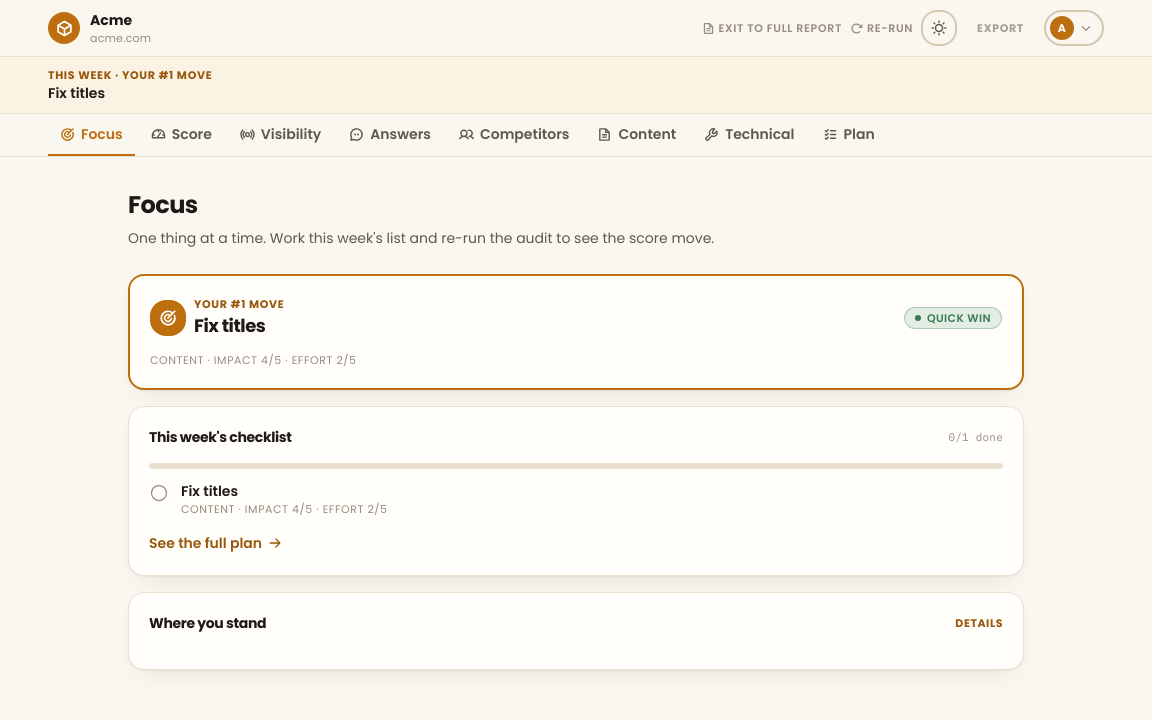
Test: GeoDashboard account menu › preserves the Admin Dashboard option for an admin on the dashboard header menu
Click the button named "Account menu" at (1074, 28), box [1044,10,1104,46]
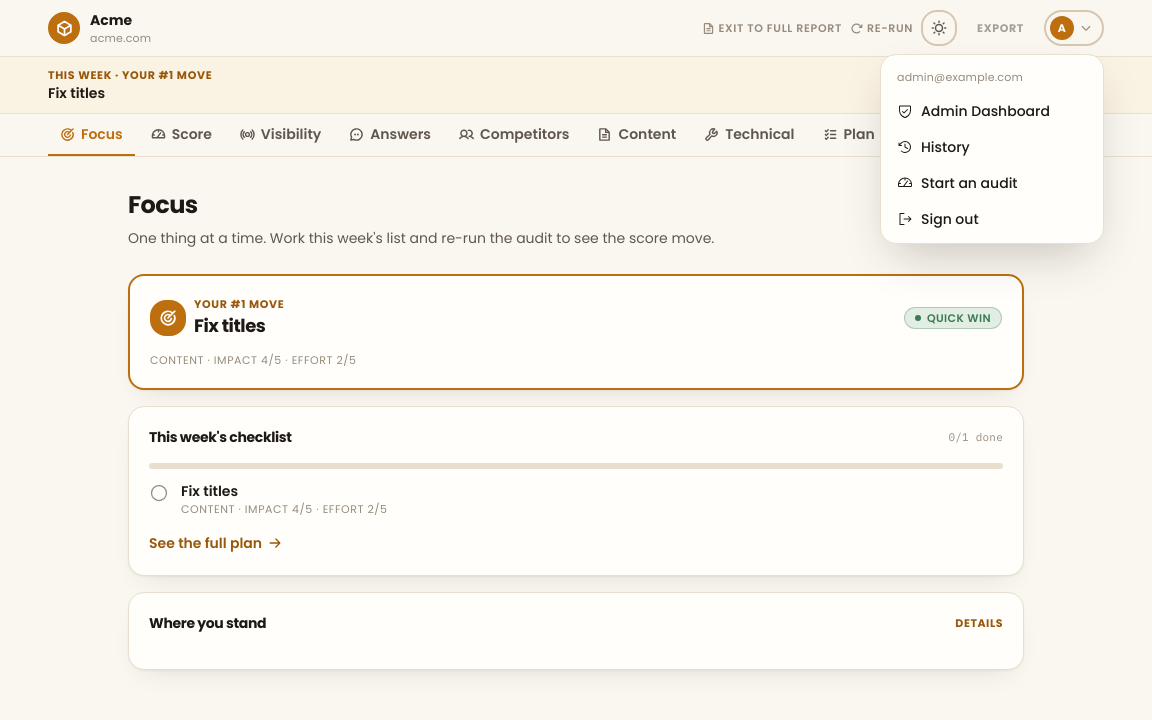
Check: the button "Admin Dashboard" is shown, box [887,93,1097,129]
Check: the button "History" is shown, box [887,129,1097,165]
